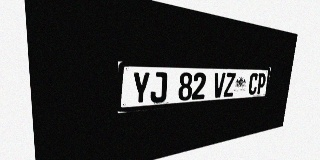2: (192, 72, 206, 100)
8: (178, 72, 193, 101)
C: (248, 73, 258, 95)
J: (150, 72, 167, 103)
P: (256, 73, 266, 94)
V: (212, 73, 225, 98)
Y: (131, 72, 150, 105)
Z: (223, 73, 236, 97)
